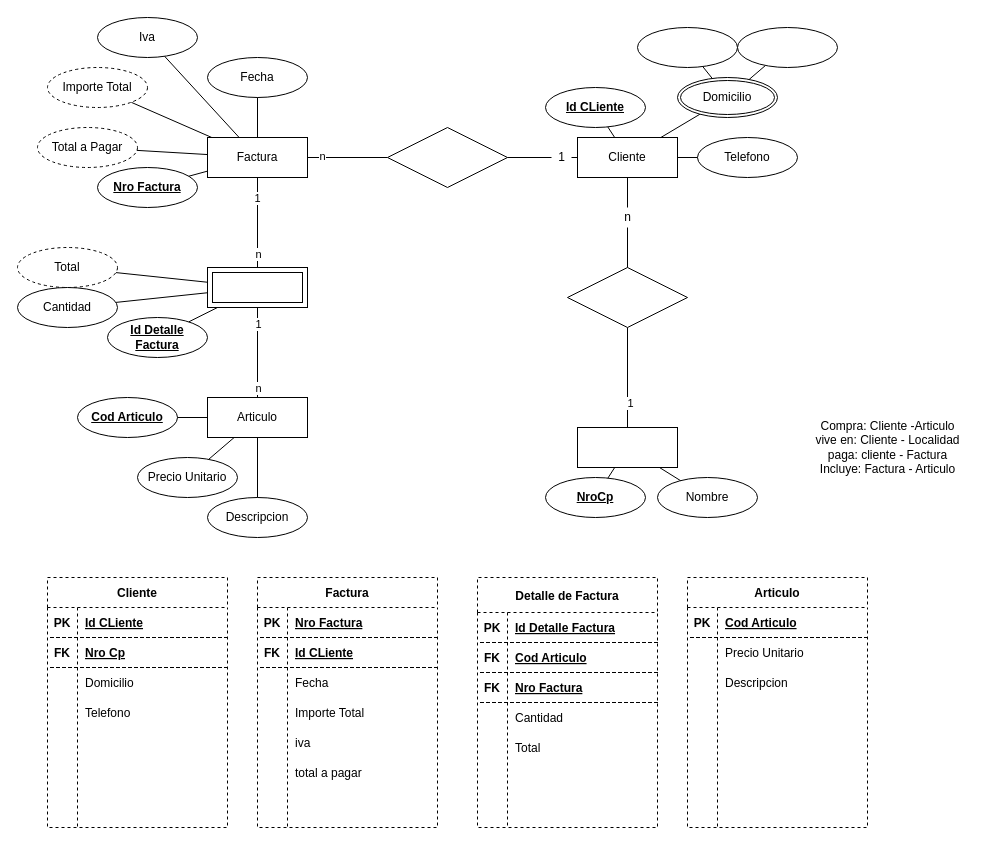
The diagram is 985 pixels wide and 845 high, and some of its shapes have lost their labels. Here are the shapes that lost their labels. From the top down, the centre of each, then its label:
At point 687,47: "Calle".
At point 787,47: "Nro".
At point 447,157: "Abona".
At point 257,287: "Detalle Factura".
At point 627,297: "VIve en".
At point 627,447: "Localidad".
